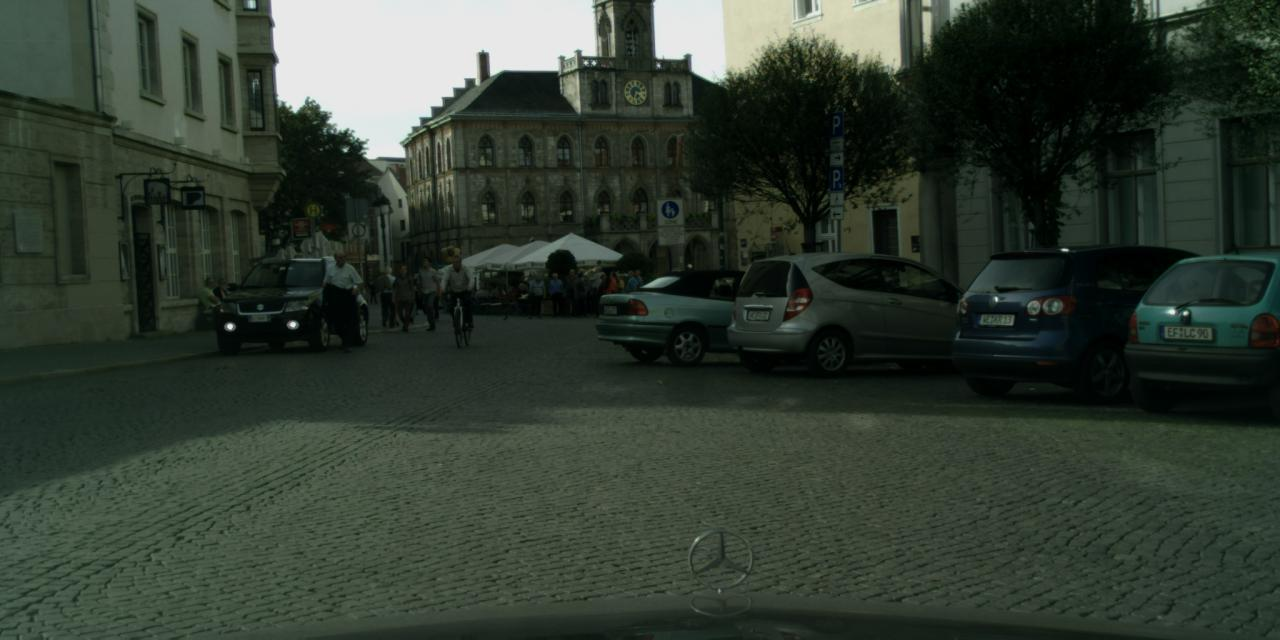ped: (562, 266, 644, 316), (322, 250, 362, 350), (444, 253, 476, 329), (414, 255, 444, 329), (390, 264, 418, 332), (376, 266, 400, 328), (382, 278, 402, 324), (527, 272, 545, 318), (424, 274, 442, 319), (547, 273, 565, 317), (470, 282, 506, 298), (411, 278, 426, 313), (516, 283, 530, 303), (368, 281, 377, 303)
